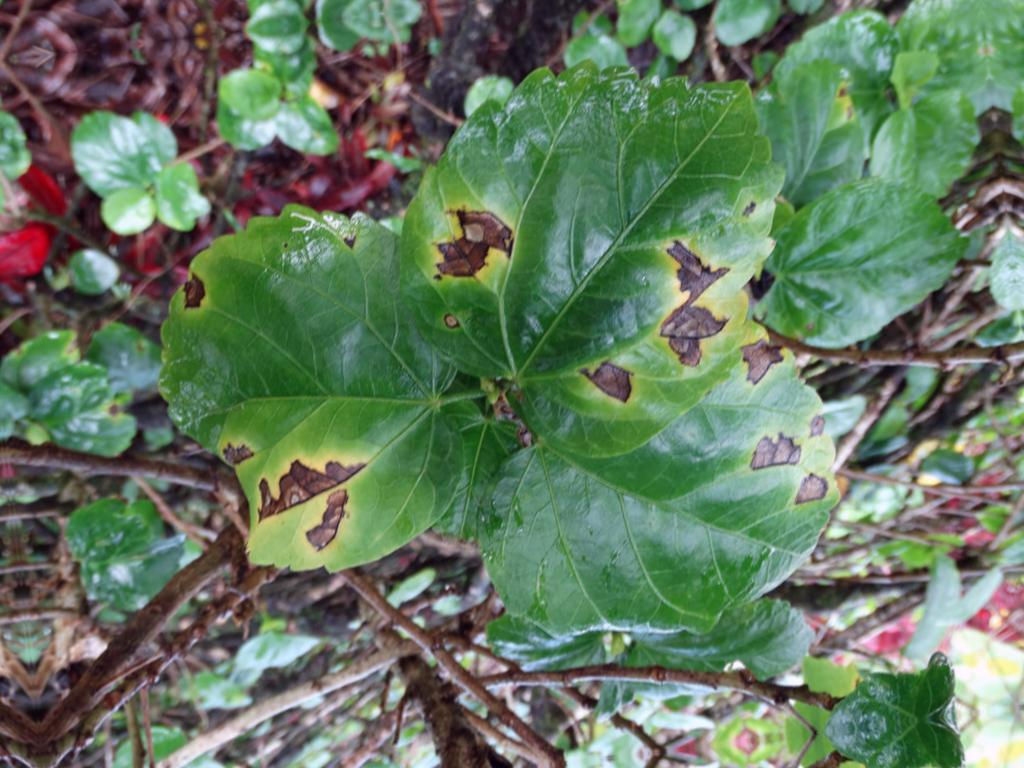Tomato Septoria leaf spot: (374, 42, 814, 465), (127, 201, 474, 596)
